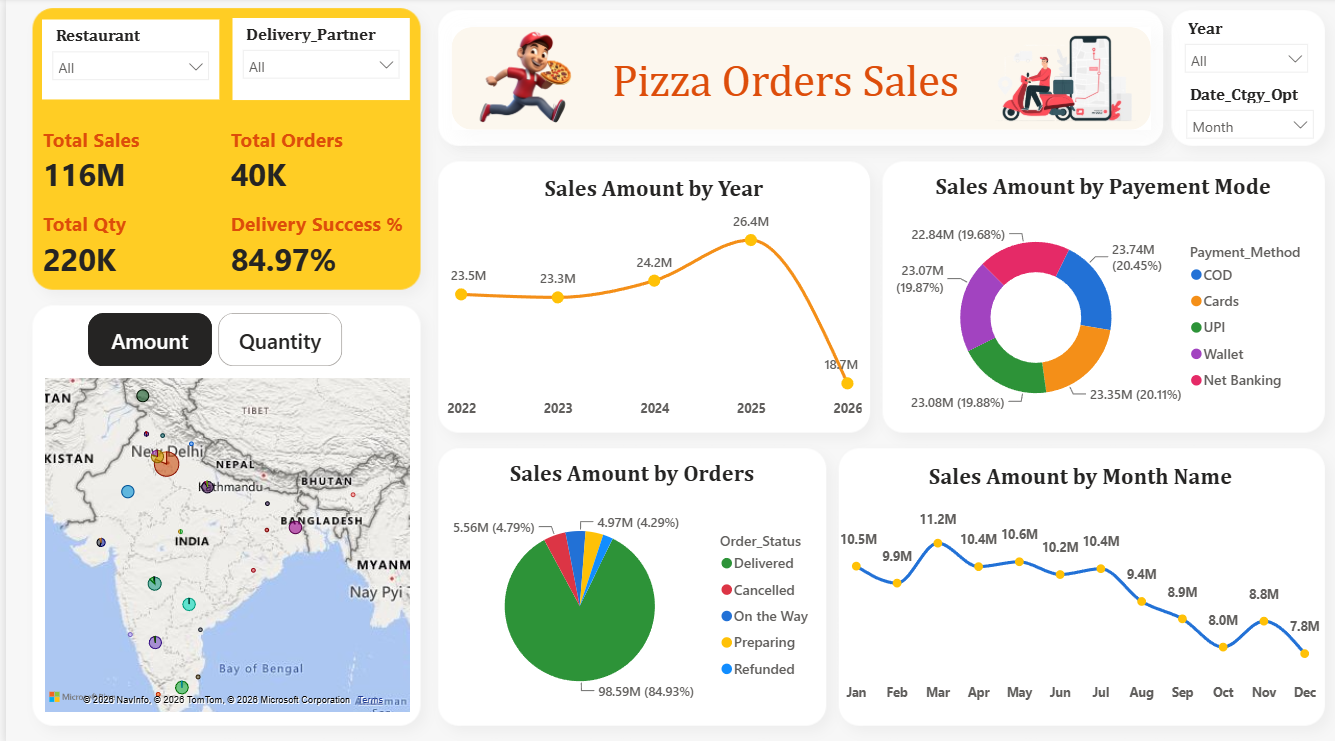

The dashboard page shown, as its layout file describes it:
{"tool":"powerbi","page":{"name":"Summary","canvas":[1280,720],"ordinal":0},"visuals":[{"type":"advancedSlicerVisual","fields":{"Values":["Orders_Dimension.Type"]},"box":[73.3,298.3,255,61.7],"z":0},{"type":"group","id":"g1","title":"Group 2","box":[426.5,27.9,670.5,99.4],"z":1000},{"type":"shape","box":[426.5,28.8,670.5,98.5],"z":1000,"group":"g1"},{"type":"image","box":[935.7,27.9,161.3,98.5],"z":2000,"group":"g1"},{"type":"cardVisual","fields":{"Data":["KPI_Measures.Total Sales","KPI_Measures.Total Qty","KPI_Measures.Total Orders","KPI_Measures.Delivery Succes Rate"]},"box":[25,111,371.1,172.2],"z":2000},{"type":"image","box":[436.4,30.6,121.8,93.1],"z":3000,"group":"g1"},{"type":"map","fields":{"Category":["Orders_Dimension.States"],"Series":["Orders_Dimension.City"],"Size":["KPI_Measures.Sales_Value"]},"box":[31.2,360,360,331.2],"z":3000},{"type":"textbox","box":[569,49.1,355.5,66.4],"z":4000,"group":"g1"},{"type":"lineChart","fields":{"Category":["Calender_Dimension.Year"],"Y":["KPI_Measures.Sales_Value"]},"box":[416.7,161.7,408.3,251.7],"z":4000},{"type":"slicer","fields":{"Values":["Date_Category_Selection.Date_Category_Selection"]},"box":[1121.7,78.3,141.7,61.7],"z":5000},{"type":"slicer","fields":{"Values":["Calender_Dimension.Year"]},"box":[1121,15,138,64],"z":6000},{"type":"donutChart","fields":{"Category":["Orders_Dimension.Payment_Method"],"Y":["KPI_Measures.Sales_Value"]},"box":[840,159,424,260],"z":7000},{"type":"pieChart","fields":{"Category":["Orders_Dimension.Order_Status"],"Y":["KPI_Measures.Sales_Value"]},"box":[415,435,369,264],"z":8000},{"type":"lineChart","fields":{"Category":["Calender_Dimension.Month Name"],"Y":["Time_Period_Measures2.Selected_Period_Sales2"]},"box":[799.9,437.7,461.1,258.2],"z":9000},{"type":"slicer","fields":{"Values":["Restaurant_Dimension.Restaurant_Name"]},"box":[35,21.7,170,76.7],"z":10000},{"type":"slicer","fields":{"Values":["Orders_Dimension.Delivery_Partner"]},"box":[216.7,20,170,78.3],"z":11000}]}

Visuals, with their boxes in screenshot pixels (x1, y1, x2, y2), scaled from the page's 1280x720 canvas onto the 1335x741 screenshot:
advancedSlicerVisual - Orders_Dimension.Type: BBox(76, 307, 342, 370)
"Group 2" group: BBox(445, 29, 1144, 131)
shape: BBox(445, 30, 1144, 131)
image: BBox(976, 29, 1144, 130)
cardVisual - KPI_Measures.Total Sales x KPI_Measures.Total Qty: BBox(26, 114, 413, 291)
image: BBox(455, 31, 582, 127)
map - Orders_Dimension.States x Orders_Dimension.City: BBox(33, 370, 408, 711)
textbox: BBox(593, 51, 964, 119)
lineChart - Calender_Dimension.Year x KPI_Measures.Sales_Value: BBox(435, 166, 860, 425)
slicer - Date_Category_Selection.Date_Category_Selection: BBox(1170, 81, 1318, 144)
slicer - Calender_Dimension.Year: BBox(1169, 15, 1313, 81)
donutChart - Orders_Dimension.Payment_Method x KPI_Measures.Sales_Value: BBox(876, 164, 1318, 431)
pieChart - Orders_Dimension.Order_Status x KPI_Measures.Sales_Value: BBox(433, 448, 818, 719)
lineChart - Calender_Dimension.Month Name x Time_Period_Measures2.Selected_Period_Sales2: BBox(834, 450, 1315, 716)
slicer - Restaurant_Dimension.Restaurant_Name: BBox(37, 22, 214, 101)
slicer - Orders_Dimension.Delivery_Partner: BBox(226, 21, 403, 101)
